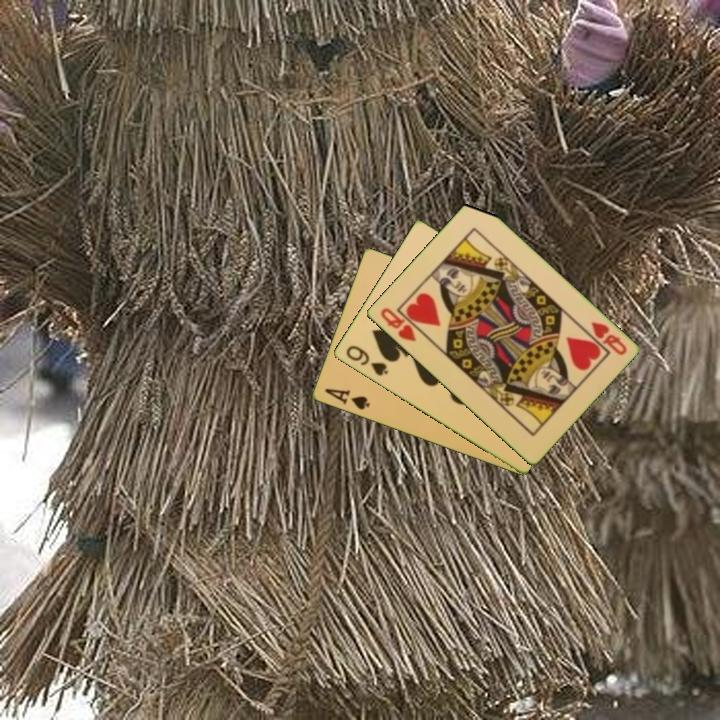9s: (342, 342, 391, 379)
As: (321, 385, 372, 413)
Qh: (376, 304, 419, 344), (587, 318, 629, 358)
